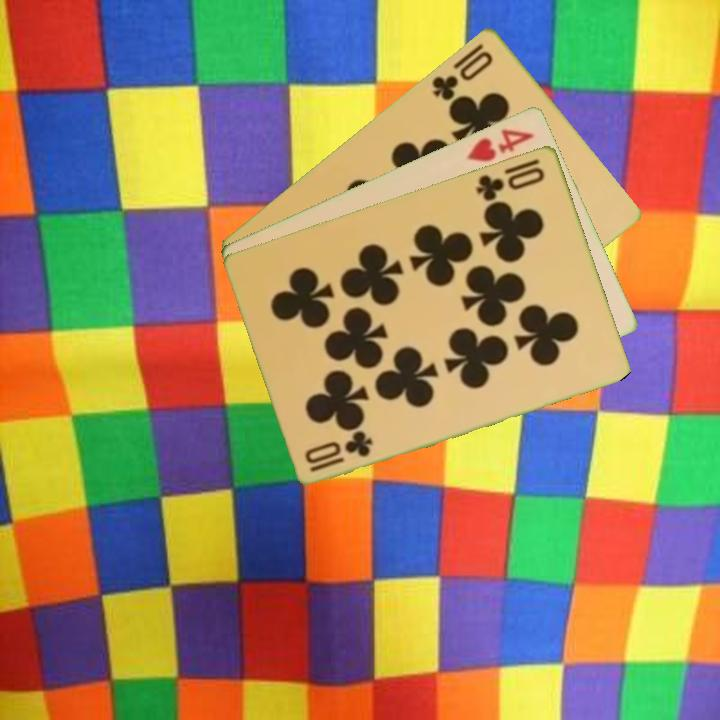10c: (428, 46, 496, 103), (306, 428, 376, 474), (472, 162, 548, 204)
4h: (463, 124, 538, 165)
